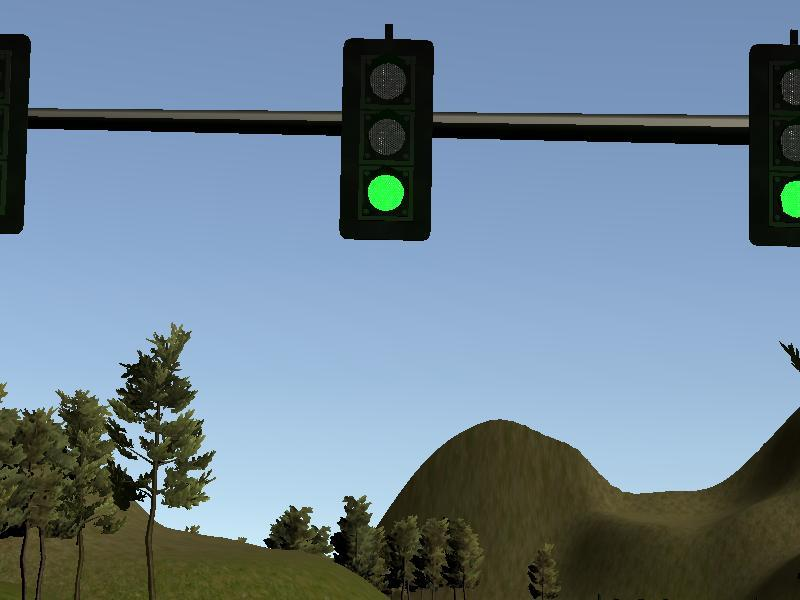Green: (341, 38, 432, 241), (750, 43, 800, 248)
